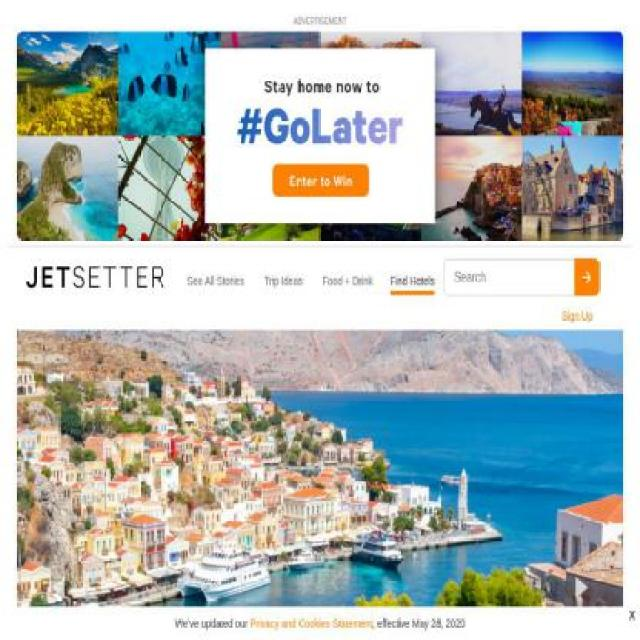button: (26, 254, 165, 300), (390, 234, 435, 294), (178, 265, 253, 287), (313, 265, 382, 287), (254, 265, 312, 287), (555, 308, 599, 332), (574, 258, 600, 296), (490, 258, 515, 297), (542, 246, 566, 280)
field: (443, 258, 600, 296), (212, 258, 337, 296), (361, 265, 490, 289)
